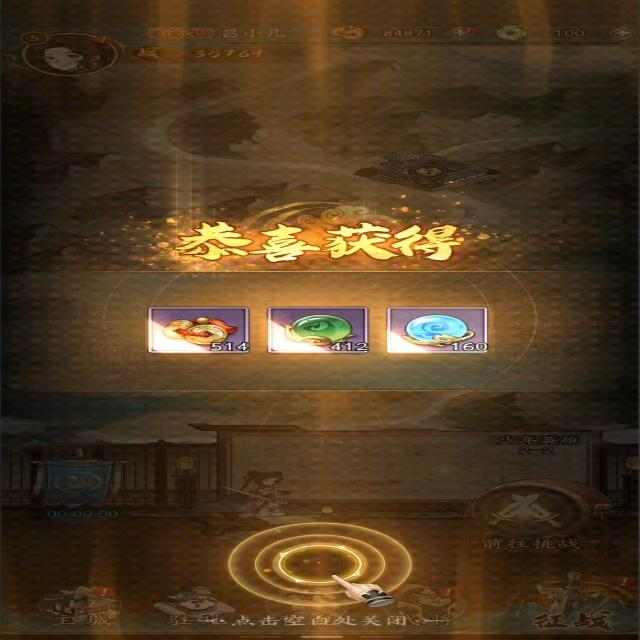hint-guide: (222, 519, 414, 608)
